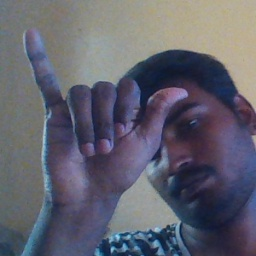J: (22, 27, 188, 193)
